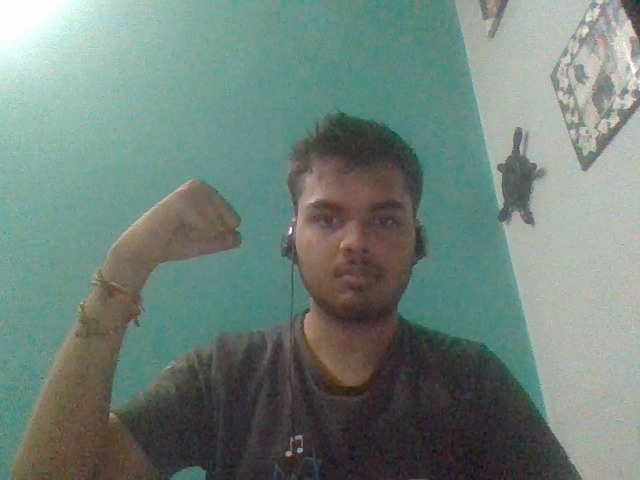goodbye: (102, 177, 246, 270)
